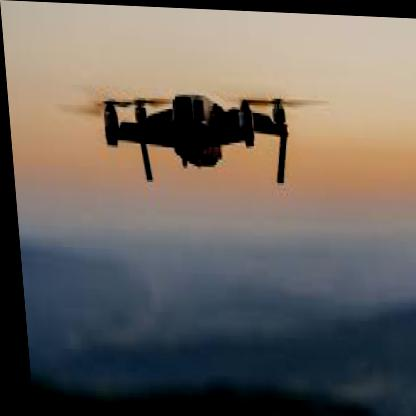UAS: (56, 85, 335, 186)
